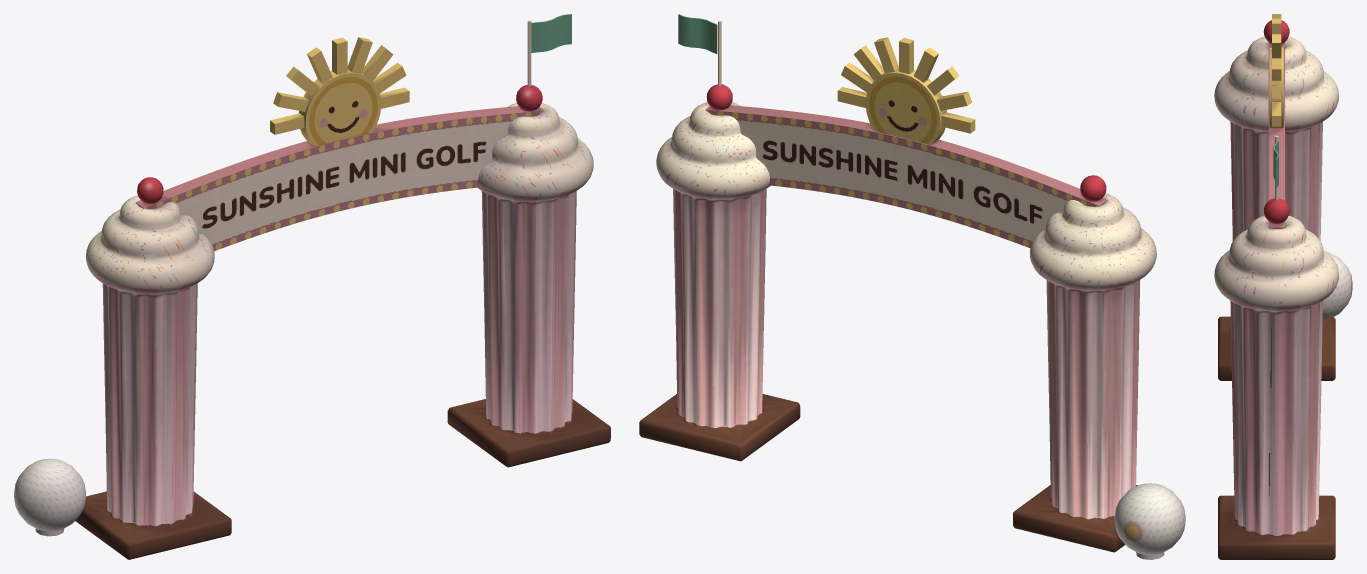
The model's file is entrance_arch.glb.
3 views of the same model, side by side, from view 1: azimuth 30°, elevation 25°; view 2: azimuth 150°, elevation 25°; view 3: azimuth 270°, elevation 25° (orthographic). The views are drawn at different scales.
Visible parts, largest first — view 1: Pillars, ArchSign, SunEmblem, GiantBall, Pennant; view 2: Pillars, ArchSign, SunEmblem, GiantBall, Pennant; view 3: Pillars, SunEmblem, ArchSign, GiantBall, Pennant.
Part boxes in pixels (x1,y1,x2,y2): Pillars: (75,85,610,559); ArchSign: (135,106,543,251); SunEmblem: (270,37,409,146); GiantBall: (14,458,85,536); Pennant: (527,14,571,86); Pillars: (639,84,1156,552); ArchSign: (705,105,1107,247); SunEmblem: (837,37,975,144); GiantBall: (1114,483,1185,559); Pennant: (678,14,721,86); Pillars: (1214,20,1339,559); SunEmblem: (1269,14,1283,127); ArchSign: (1268,42,1284,228); GiantBall: (1322,252,1352,316); Pennant: (1273,135,1278,200).
Size of what is drawn, in the model's own units: 5.18 by 3.99 by 1.18.
Materials: 1 (1 with a texture image).
